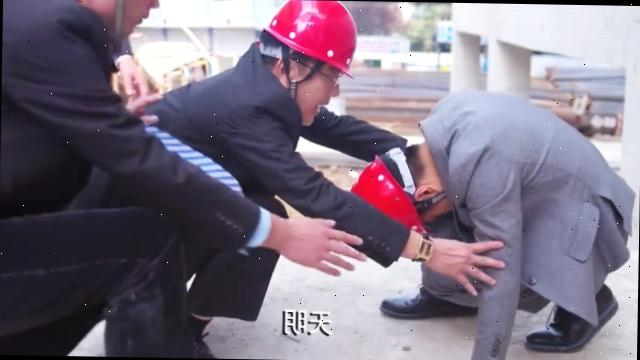helmet: (259, 0, 368, 78), (346, 151, 432, 237)
no_wear: (445, 94, 633, 283)
